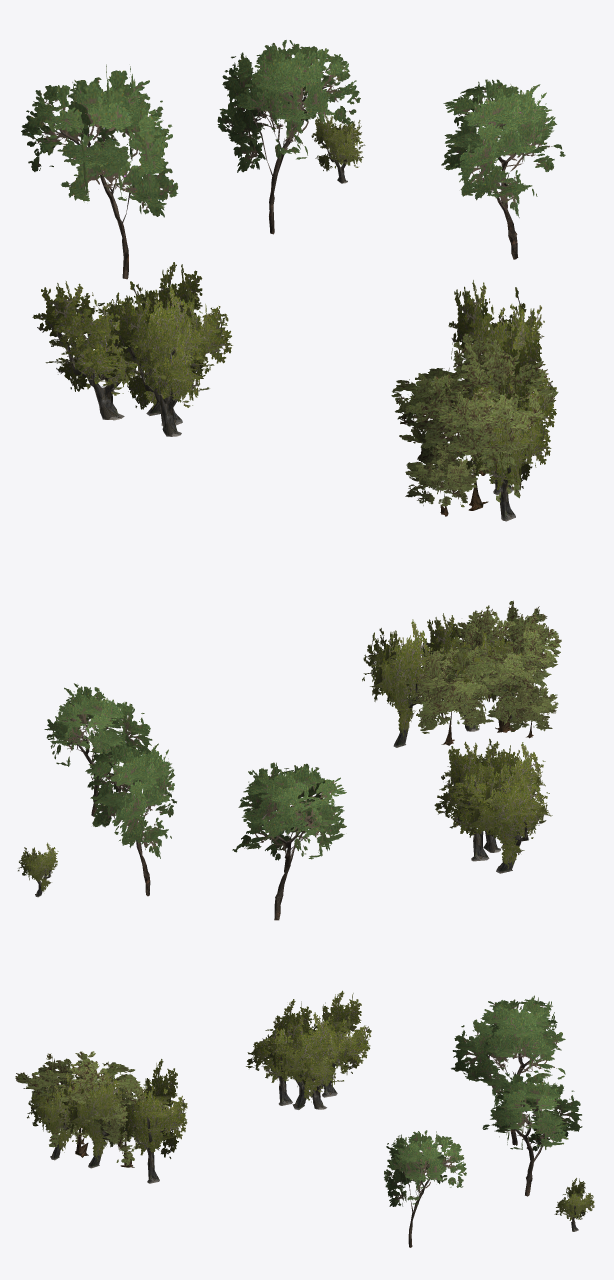
The picture shows the model from 3 angles, top to bottom: view 1: azimuth 30°, elevation 25°; view 2: azimuth 150°, elevation 25°; view 3: azimuth 270°, elevation 25°; orthographic projection. The views are drawn at different scales.
Visible parts, largest first — view 1: tree_small_02 street foliage, island_tree_01 street foliage, jacaranda_tree street foliage, island_tree_01 park bark, tree_small_02 park bark; view 2: tree_small_02 street foliage, island_tree_01 street foliage, jacaranda_tree street foliage, island_tree_01 park bark, tree_small_02 park bark; view 3: island_tree_01 street foliage, tree_small_02 street foliage, jacaranda_tree street foliage, island_tree_01 park bark, tree_small_02 park bark.
Part boxes in pixels (x1=…): tree_small_02 street foliage: x1=21, y1=40, x2=565, y2=217; island_tree_01 street foliage: x1=32, y1=114, x2=556, y2=490; jacaranda_tree street foliage: x1=391, y1=333, x2=558, y2=507; island_tree_01 park bark: x1=56, y1=134, x2=526, y2=521; tree_small_02 park bark: x1=60, y1=87, x2=518, y2=279; tree_small_02 street foliage: x1=44, y1=683, x2=346, y2=860; island_tree_01 street foliage: x1=18, y1=613, x2=552, y2=891; jacaranda_tree street foliage: x1=400, y1=600, x2=561, y2=733; island_tree_01 park bark: x1=29, y1=646, x2=540, y2=897; tree_small_02 park bark: x1=71, y1=720, x2=309, y2=920; island_tree_01 street foliage: x1=27, y1=990, x2=594, y2=1220; tree_small_02 street foliage: x1=384, y1=995, x2=582, y2=1206; jacaranda_tree street foliage: x1=15, y1=1051, x2=177, y2=1165; island_tree_01 park bark: x1=47, y1=1049, x2=582, y2=1231; tree_small_02 park bark: x1=404, y1=1053, x2=542, y2=1247.
Bounding box in the file's own units: 71.62 × 23.28 × 91.52.
6 materials, 6 textured.
